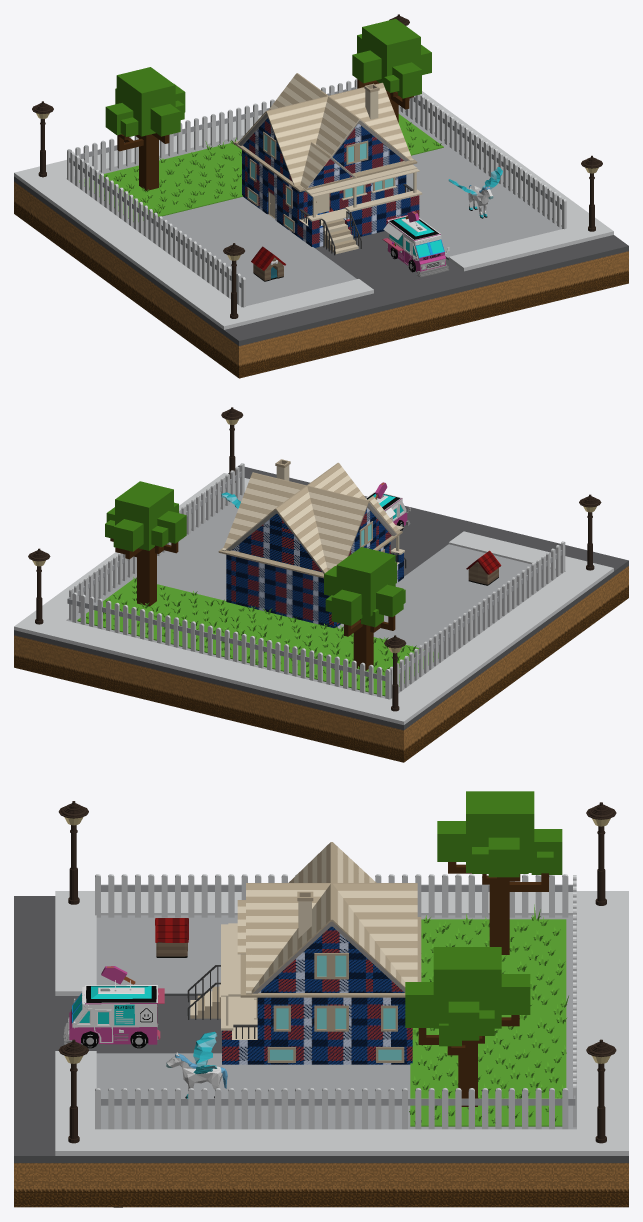
The picture shows the model from 3 angles, top to bottom: view 1: azimuth 30°, elevation 25°; view 2: azimuth 150°, elevation 25°; view 3: azimuth 270°, elevation 25°; orthographic projection. The views are drawn at different scales.
Visible parts, largest first — view 1: Cube.004, Cube.171, VEHICLES_ICE_CREAM_TRUCK, ANIMAL_PEGASO, OBJRANDOM_DOGHOUSE; view 2: Cube.004, Cube.171, VEHICLES_ICE_CREAM_TRUCK, OBJRANDOM_DOGHOUSE; view 3: Cube.004, Cube.171, VEHICLES_ICE_CREAM_TRUCK, ANIMAL_PEGASO, OBJRANDOM_DOGHOUSE.
Part boxes in pixels (box(x1,y1,x2,y2)): Cube.004: box(14, 14, 628, 378); Cube.171: box(233, 73, 422, 255); VEHICLES_ICE_CREAM_TRUCK: box(382, 211, 449, 277); ANIMAL_PEGASO: box(448, 167, 502, 218); OBJRANDOM_DOGHOUSE: box(251, 246, 285, 281); Cube.004: box(14, 407, 628, 762); Cube.171: box(218, 459, 406, 627); VEHICLES_ICE_CREAM_TRUCK: box(366, 482, 410, 530); OBJRANDOM_DOGHOUSE: box(466, 550, 501, 585); Cube.004: box(14, 791, 628, 1207); Cube.171: box(187, 842, 421, 1064); VEHICLES_ICE_CREAM_TRUCK: box(63, 966, 164, 1048); ANIMAL_PEGASO: box(166, 1031, 227, 1098); OBJRANDOM_DOGHOUSE: box(155, 918, 188, 957).
Size of the model in its own units: 4000 by 1574 by 4000.
44 materials, 4 textured.
